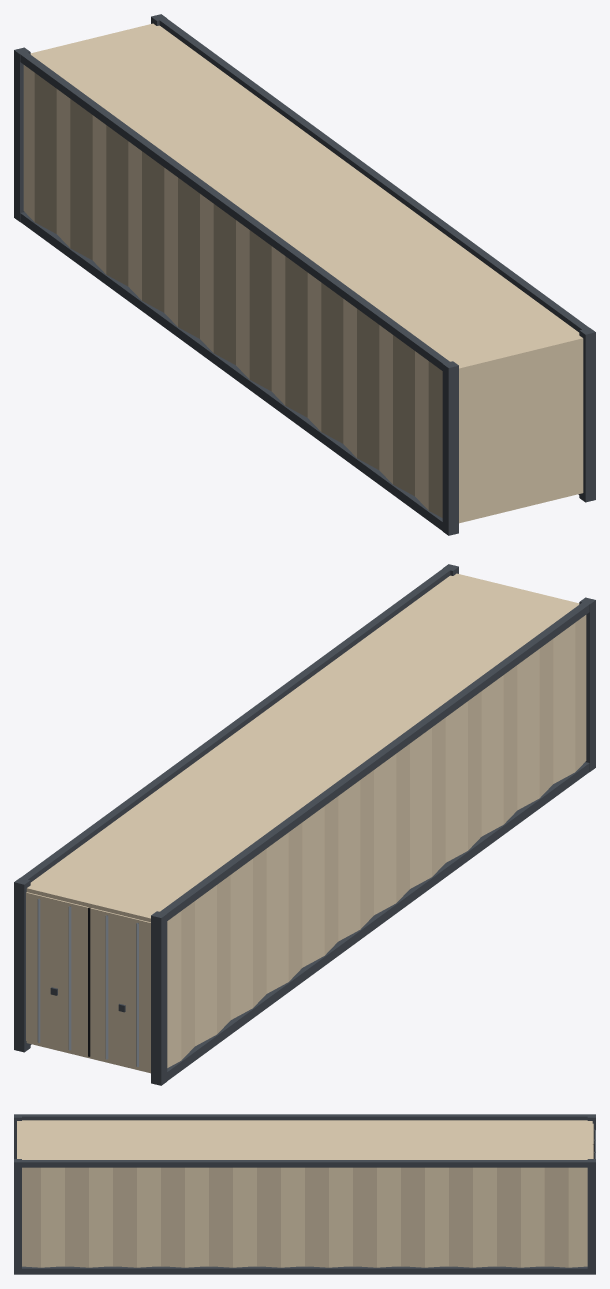
The model's file is container.glb.
3 views of the same model, one above another, from view 1: azimuth 30°, elevation 25°; view 2: azimuth 150°, elevation 25°; view 3: azimuth 270°, elevation 25° (orthographic). The views are drawn at different scales.
Parts seen in each view (by area): view 1: Body; view 2: Body; view 3: Body.
Part boxes in pixels (bbox=[...]): Body: bbox=[14, 14, 595, 535]; Body: bbox=[14, 564, 595, 1085]; Body: bbox=[14, 1114, 595, 1274].
Size of the model in its own units: 2.39 by 2.6 by 12.21.
